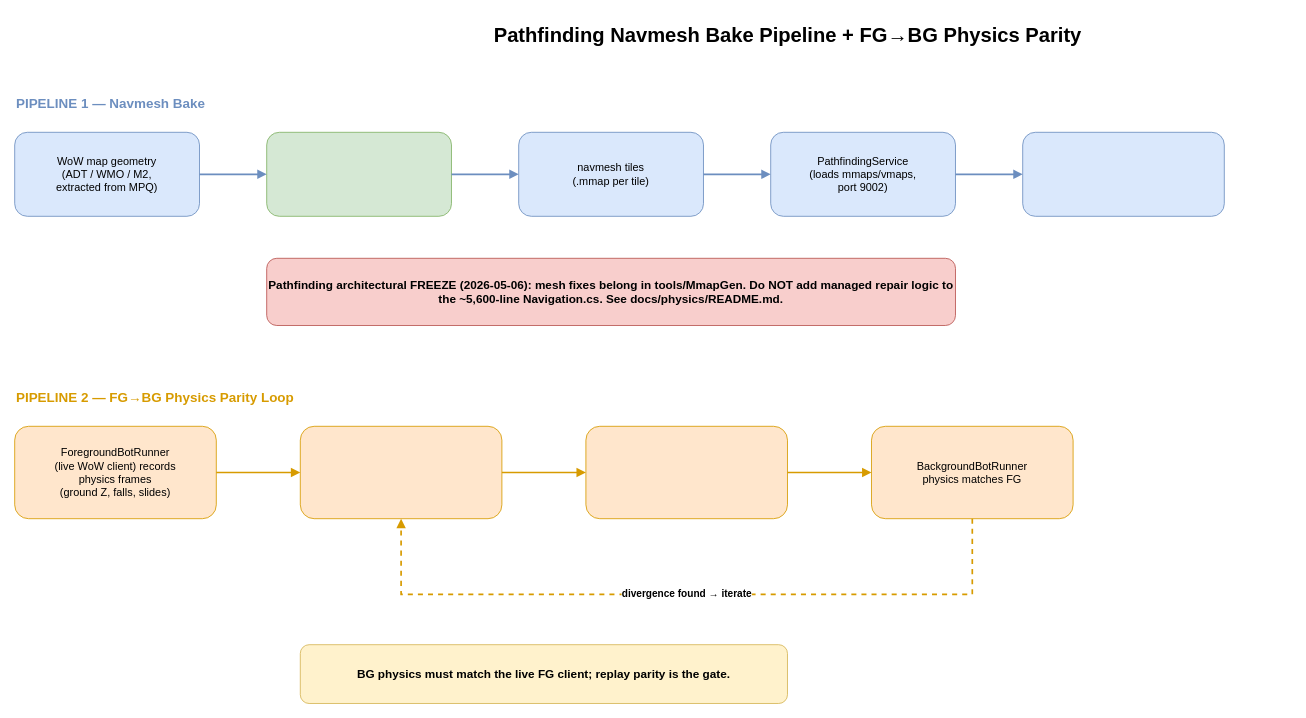
This 1306x718 diagram has some shape labels left out. The box of each missing label's shape, as (x1, y1, x2, y2) in pixels:
A* route + physics validation → path returned to BotRunner: (1022, 131, 1224, 216)
bake / tune physics params: (585, 425, 788, 519)
replay validator compares FG vs BG frame-by-frame: (299, 425, 502, 519)
tools/MmapGen (per-tile bake config) IN-TREE navmesh generator: (266, 131, 452, 216)
